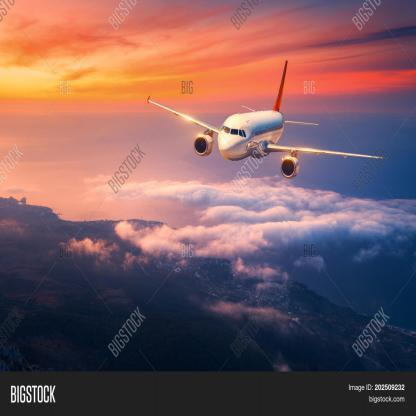CIV_Plane: (140, 60, 388, 188)
